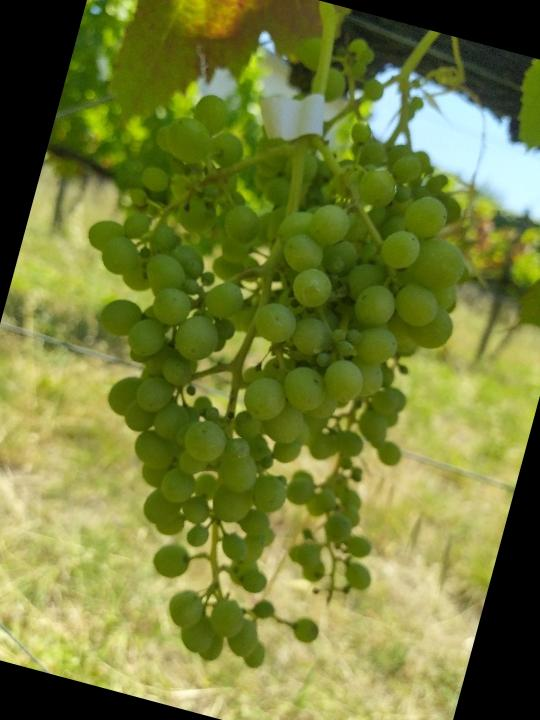grape: (0, 63, 501, 706)
